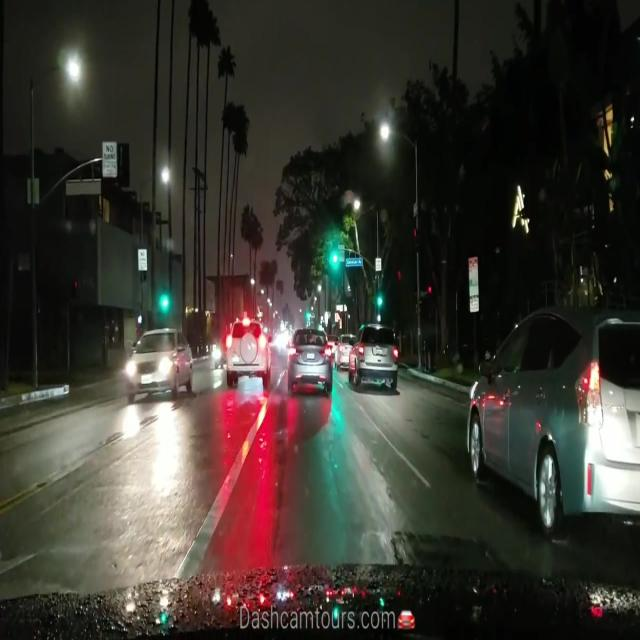Car: (468, 313, 639, 519), (123, 328, 192, 395), (349, 321, 396, 386), (286, 328, 331, 394), (223, 320, 272, 380)
